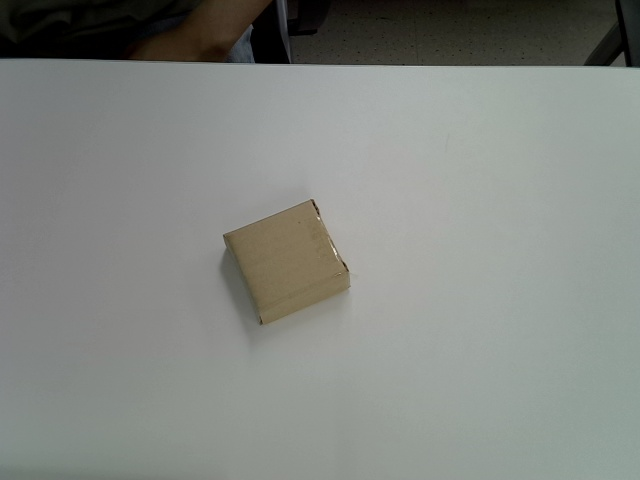normal: (224, 199, 351, 325)
